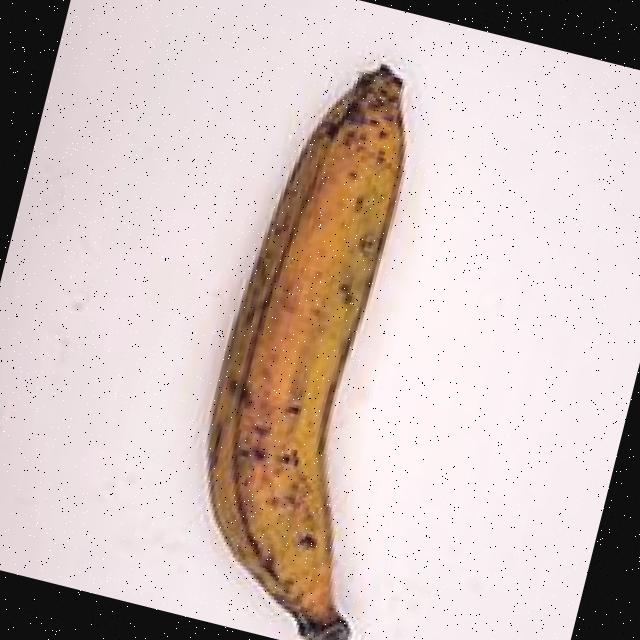Overripe: (124, 10, 545, 640)
